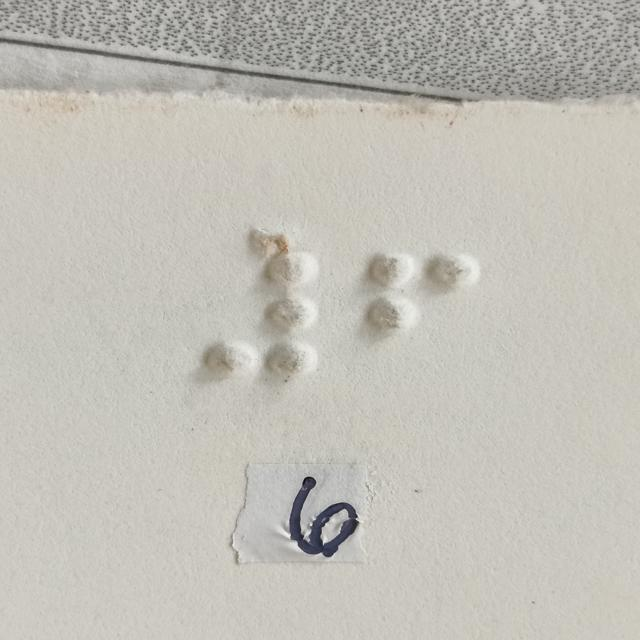digit_6: (365, 249, 476, 372)
number_sign: (204, 252, 315, 375)
